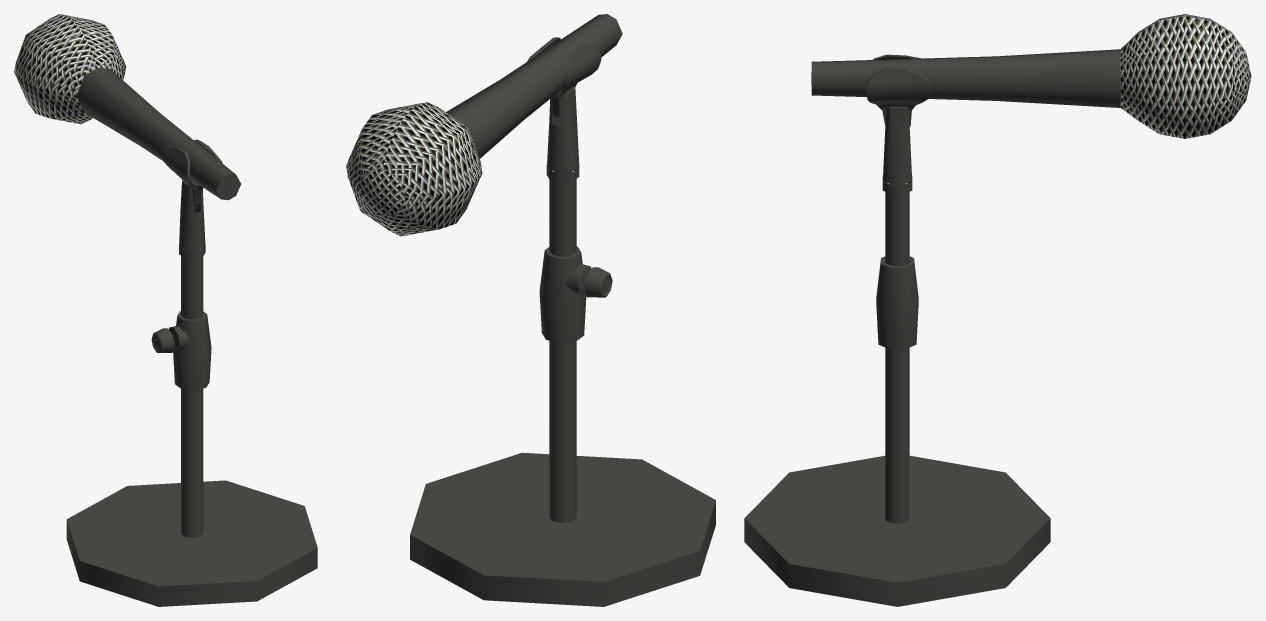
Rendered from mike.fbx.
3 views of the same model, side by side, from view 1: azimuth 30°, elevation 25°; view 2: azimuth 150°, elevation 25°; view 3: azimuth 270°, elevation 25° (orthographic). The views are drawn at different scales.
Visible parts, largest first — view 1: stand_mesh, mike_mesh, rotate_mike_point; view 2: stand_mesh, mike_mesh, rotate_mike_point; view 3: stand_mesh, mike_mesh, rotate_mike_point.
Part boxes in pixels (x1,y1,x2,y2): stand_mesh: (66,180,317,606); mike_mesh: (14,14,240,200); rotate_mike_point: (159,139,222,205); stand_mesh: (410,86,715,606); mike_mesh: (346,14,622,236); rotate_mike_point: (527,37,601,118); stand_mesh: (744,106,1050,606); mike_mesh: (811,14,1251,138); rotate_mike_point: (866,54,932,127).
Bounding box in the file's own units: 11.5 × 21.81 × 19.05.
1 material, 1 textured.
